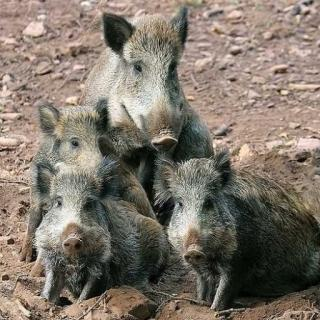Pig: (156, 146, 320, 320), (17, 175, 158, 312), (88, 12, 230, 144), (28, 95, 140, 200)
